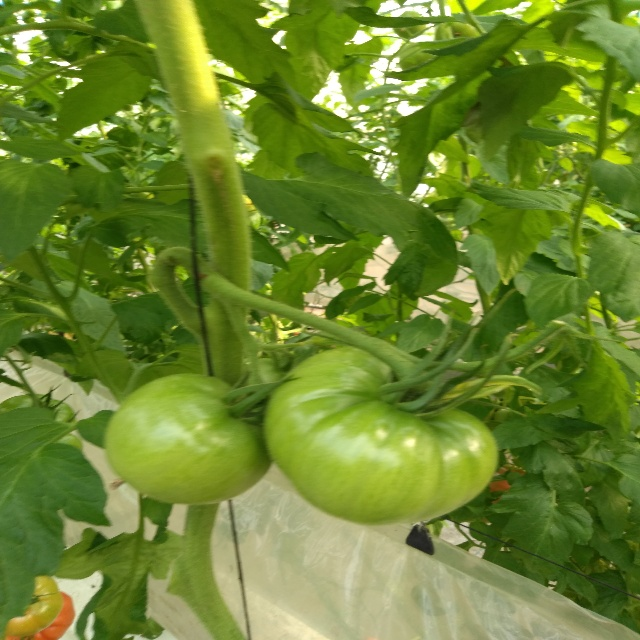b_green: (261, 346, 497, 525), (105, 373, 273, 505), (0, 393, 75, 423)
b_half_ripened: (3, 575, 63, 635), (3, 591, 76, 640)
